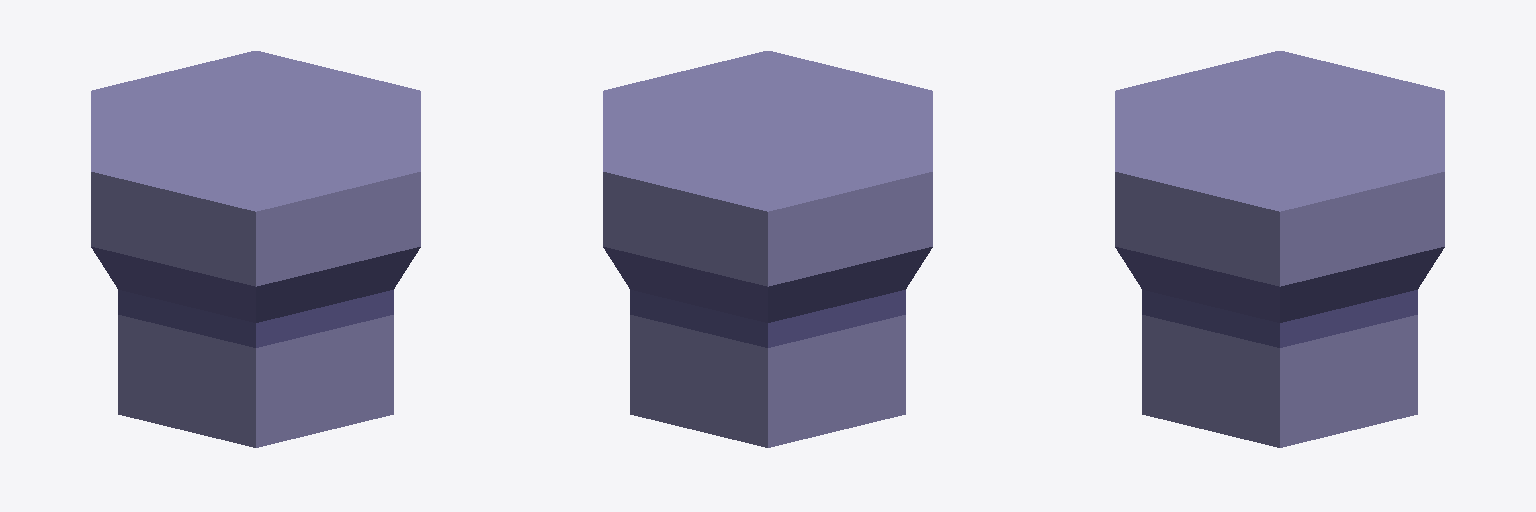
The model's file is Knight.obj.
3 views of the same model, side by side, from view 1: azimuth 30°, elevation 25°; view 2: azimuth 150°, elevation 25°; view 3: azimuth 270°, elevation 25° (orthographic).
Visible parts, largest first — view 1: mergedBlocks; view 2: mergedBlocks; view 3: mergedBlocks.
Part boxes in pixels (left/top/right/bottom): mergedBlocks: left=91, top=51, right=420, bottom=447; mergedBlocks: left=603, top=51, right=932, bottom=447; mergedBlocks: left=1115, top=51, right=1444, bottom=447.
Bounding box in the file's own units: 1.39 × 1 × 1.2.